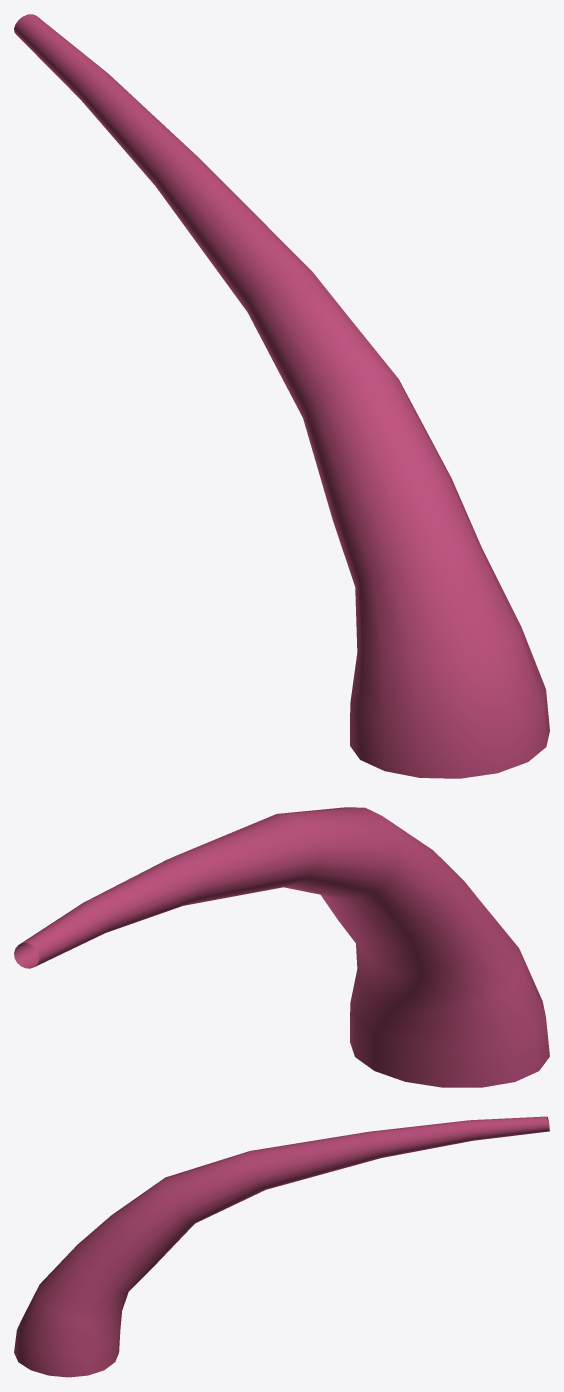
Rendered from dragon's_tail.glb.
The picture shows the model from 3 angles, top to bottom: view 1: azimuth 30°, elevation 25°; view 2: azimuth 150°, elevation 25°; view 3: azimuth 270°, elevation 25°; orthographic projection. The views are drawn at different scales.
Visible parts, largest first — view 1: Dragon's Tail; view 2: Dragon's Tail; view 3: Dragon's Tail.
Boxes of the visible parts, <box> form: Dragon's Tail: <box>14,14,549,778</box>; Dragon's Tail: <box>14,807,549,1087</box>; Dragon's Tail: <box>14,1116,549,1377</box>.
Size of what is drawn, in the model's own units: 2.87 by 6.36 by 13.13.
1 material, 1 textured.
